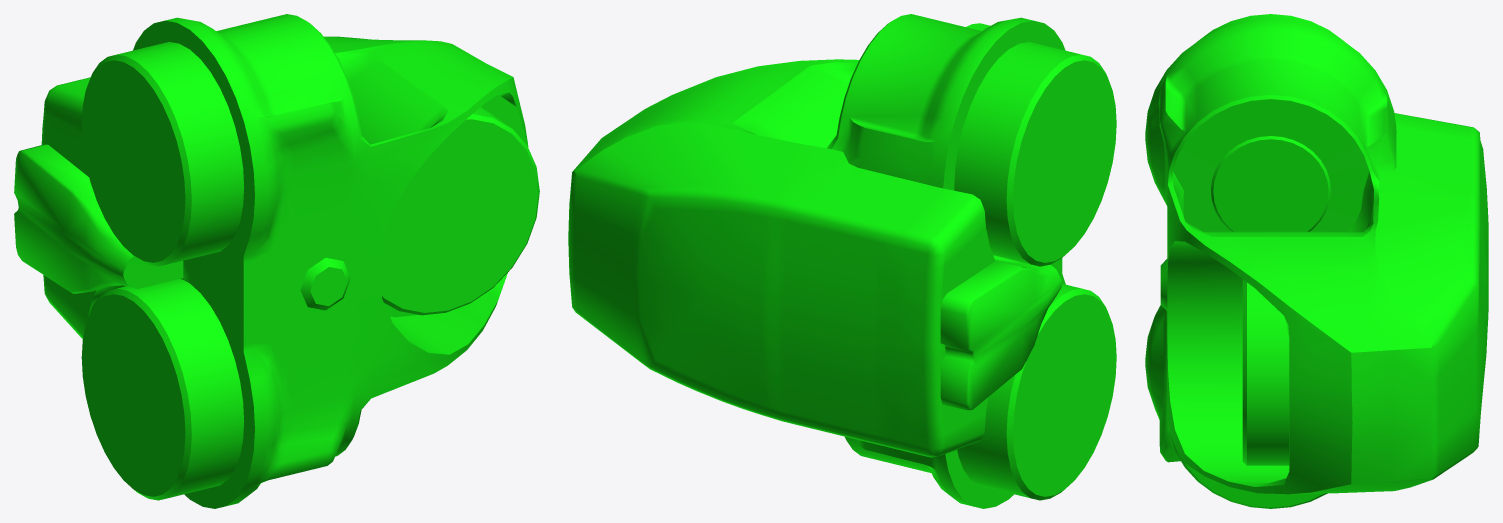
File: Pelvis.obj
3 views of the same model, side by side, from view 1: azimuth 30°, elevation 25°; view 2: azimuth 150°, elevation 25°; view 3: azimuth 270°, elevation 25° (orthographic). The views are drawn at different scales.
Visible parts, largest first — view 1: Pelvis_Retopo; view 2: Pelvis_Retopo; view 3: Pelvis_Retopo.
Part boxes in pixels (<box>): Pelvis_Retopo: <box>14,14,539,508</box>; Pelvis_Retopo: <box>568,14,1116,508</box>; Pelvis_Retopo: <box>1145,14,1488,508</box>.
Size of the model in its own units: 0.2365 by 0.239 by 0.164.
